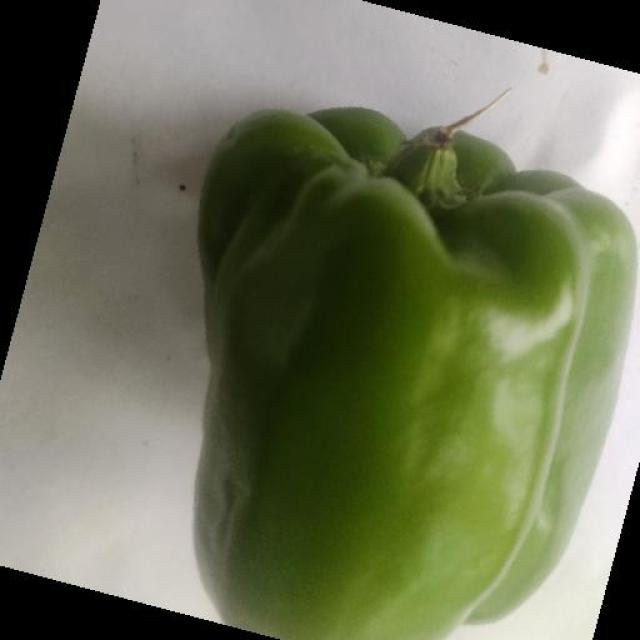Fresh_Capsicum: (168, 82, 640, 612)
